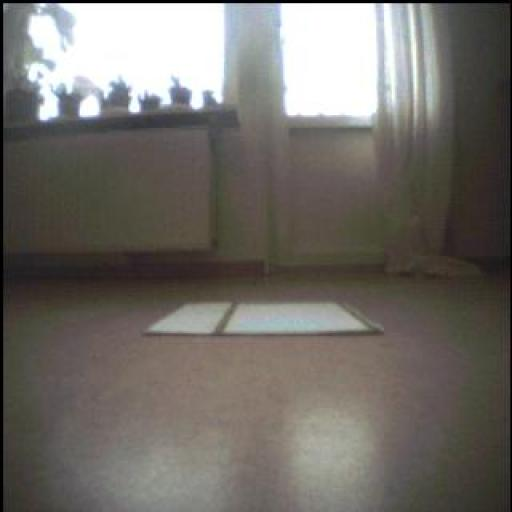Pad: (132, 282, 394, 337)
